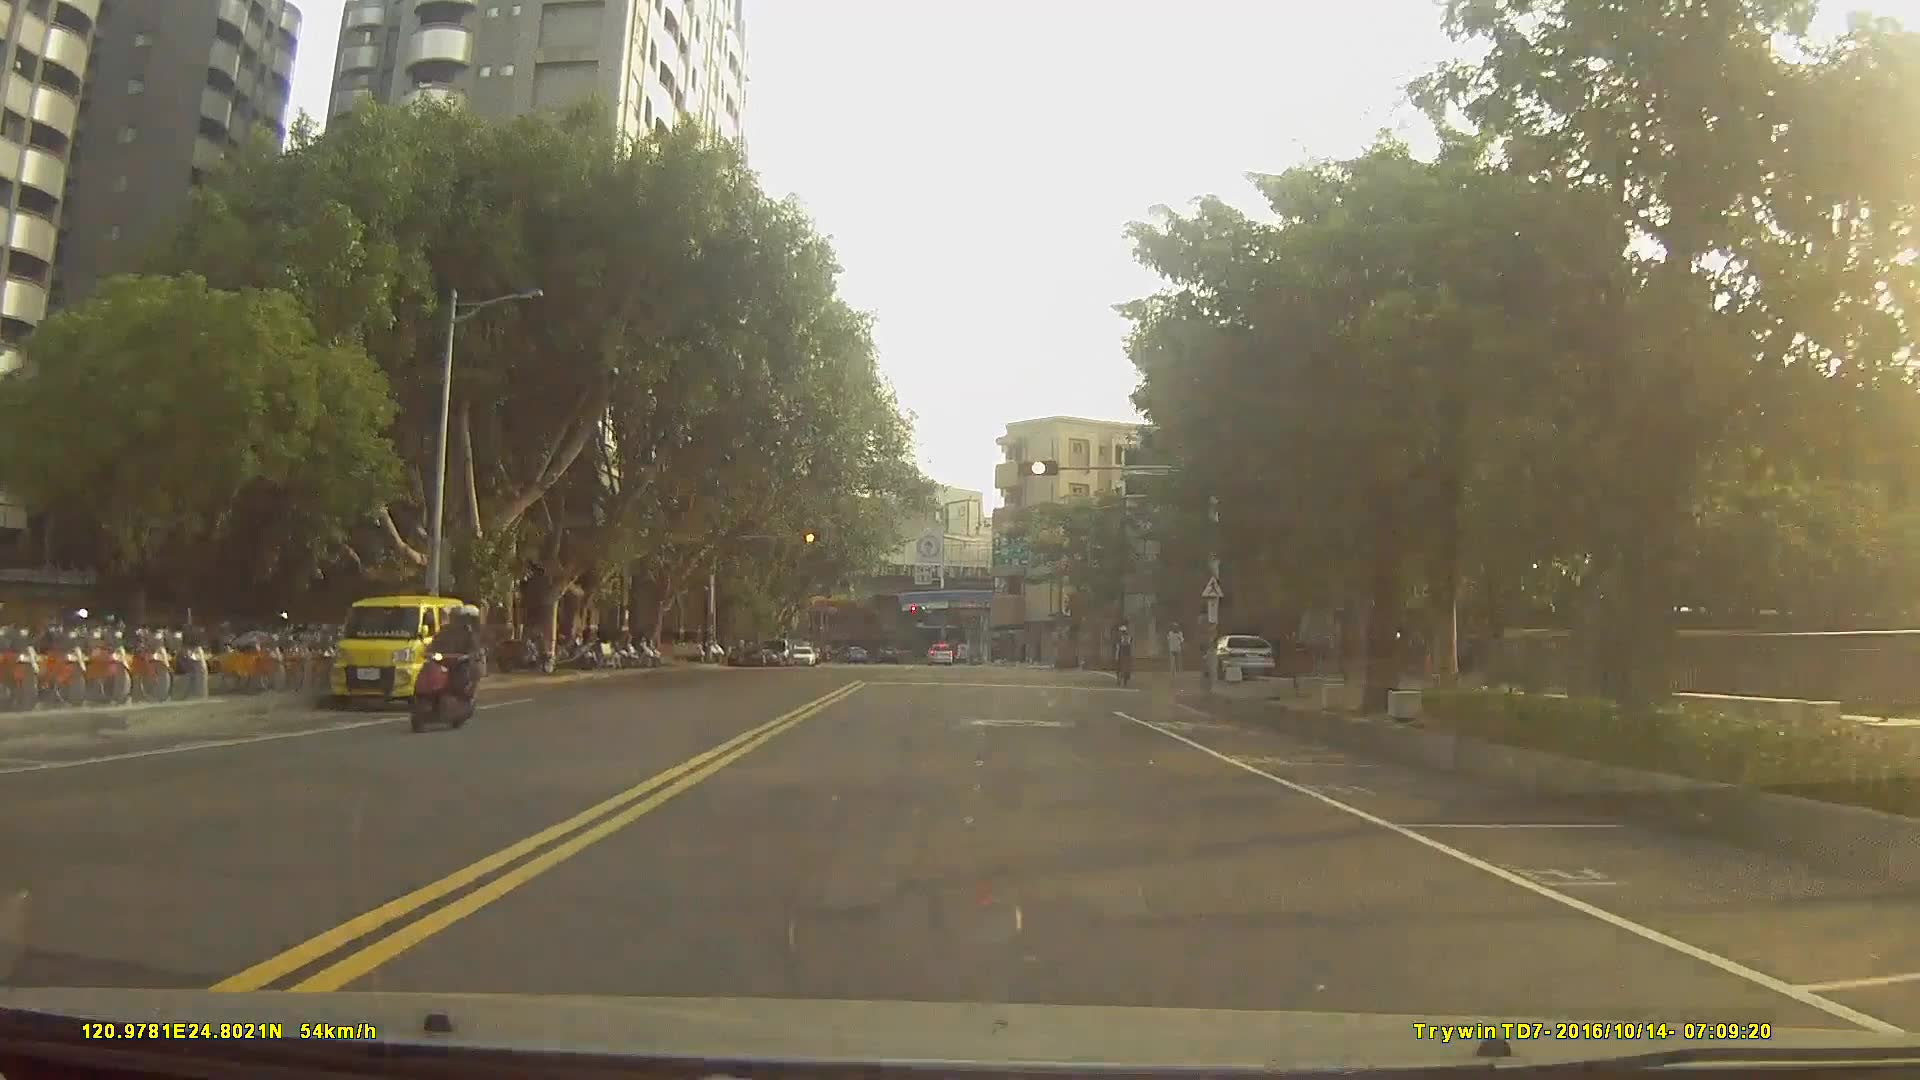pedestrian: (1167, 618, 1187, 679)
rider: (413, 602, 487, 733), (1113, 619, 1138, 679)
vehicle: (1201, 633, 1276, 679), (787, 641, 818, 663), (928, 643, 953, 666)
